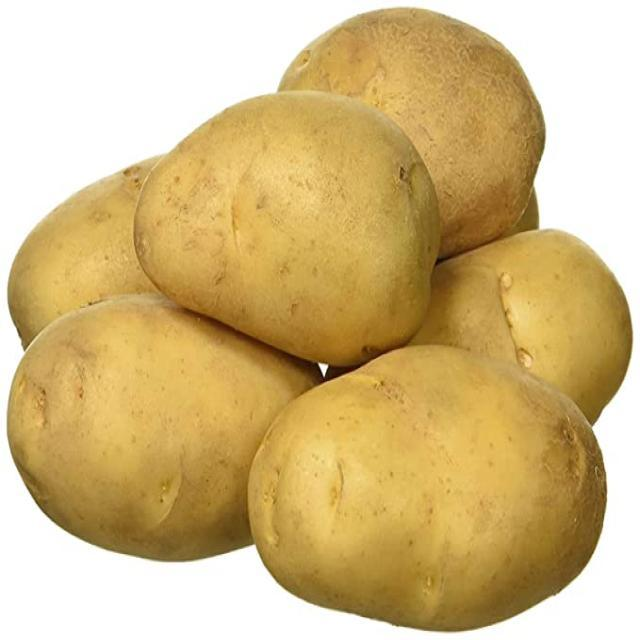potato: (251, 349, 605, 633), (11, 291, 324, 564), (136, 94, 440, 362), (278, 5, 548, 249), (409, 233, 638, 431)
